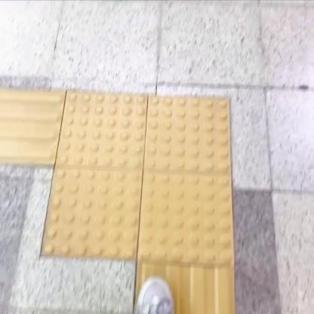Podoctatil: (27, 70, 250, 292)
